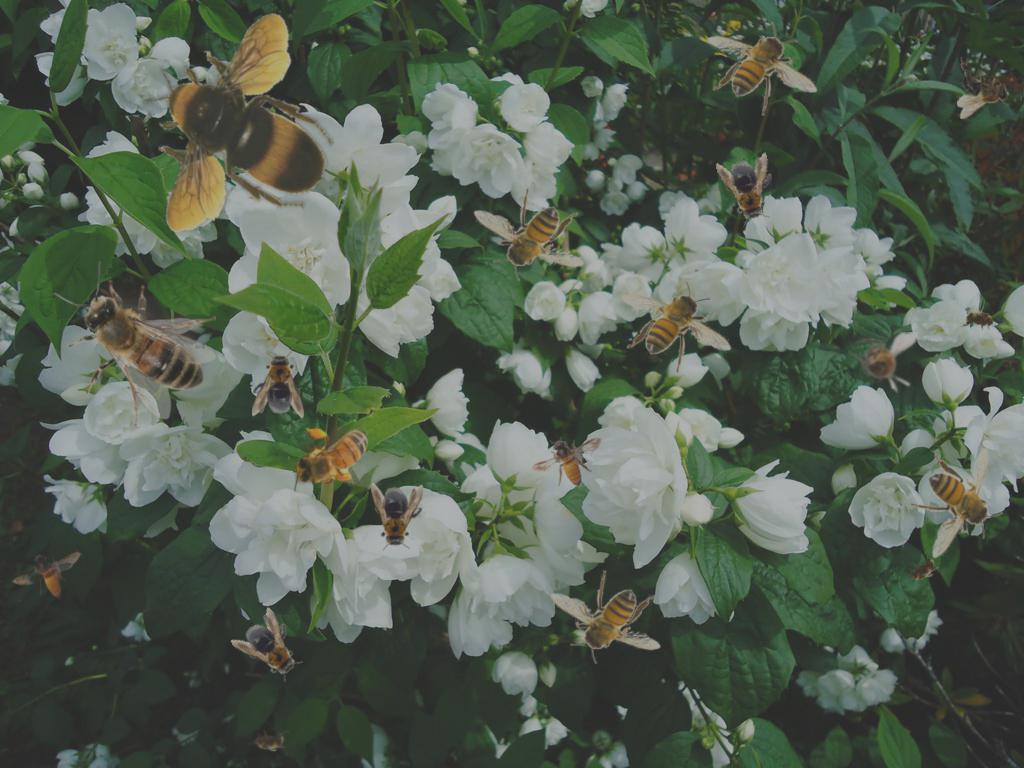Bee: (143, 12, 334, 232), (54, 261, 216, 428), (621, 280, 732, 374), (909, 448, 1003, 559), (707, 22, 818, 116), (473, 187, 584, 281), (550, 570, 661, 664), (229, 605, 315, 691), (288, 424, 381, 492), (715, 150, 783, 230), (848, 332, 918, 393), (531, 437, 602, 487), (11, 550, 82, 600), (371, 483, 423, 551), (252, 350, 304, 418), (957, 57, 1010, 119), (899, 550, 945, 590), (958, 305, 1002, 335), (249, 730, 289, 752)
